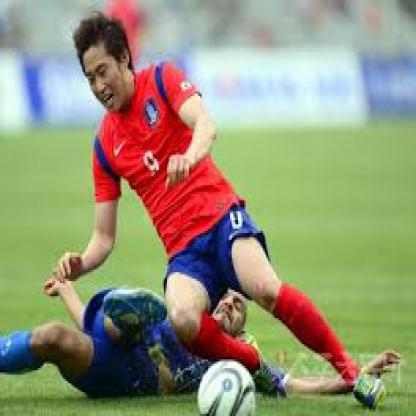Fall_Down: (49, 16, 390, 412)
